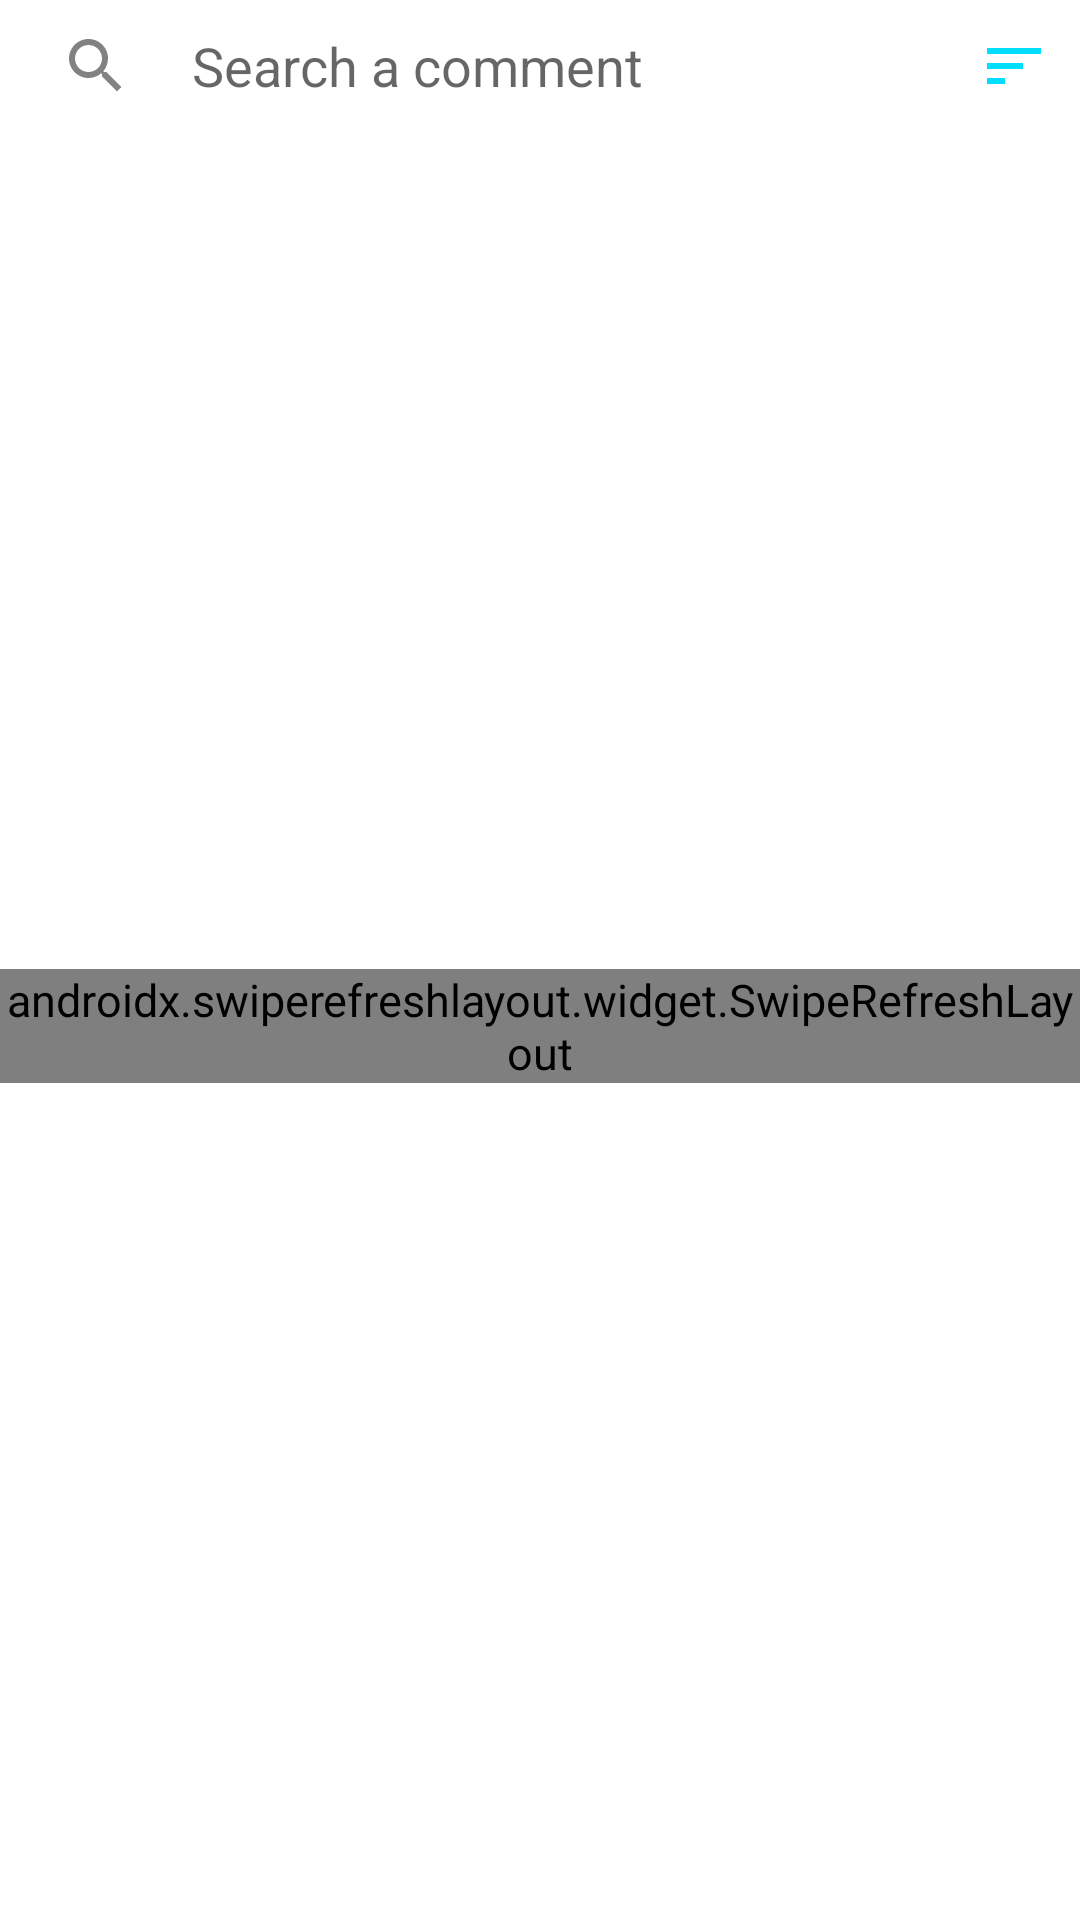

Icons on this 1080 × 1920 Android screen, each with the point to tap as point (x, y):
sort by: point (1014, 66)
